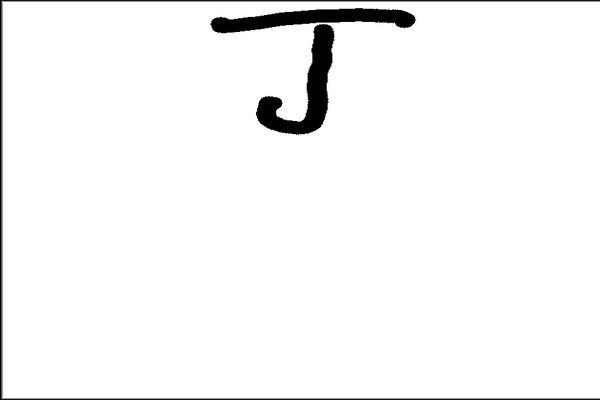J: (207, 4, 423, 138)
